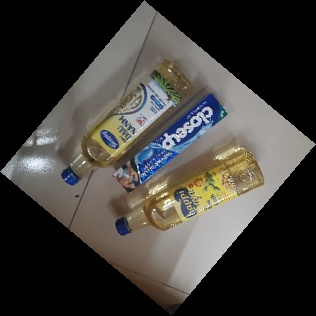CloseUp Tuyet: (111, 91, 229, 196)
Happy Soya: (113, 146, 266, 237)
Simply: (57, 60, 192, 187)
